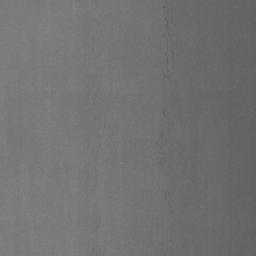Silk spot: (163, 6, 173, 36)
